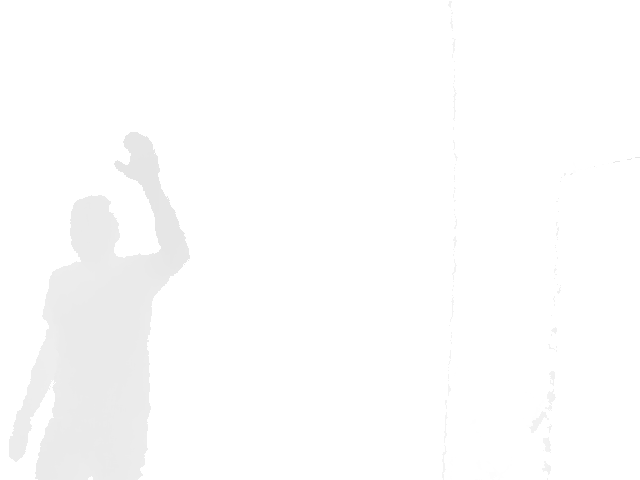hand: (112, 131, 163, 182)
head: (69, 195, 121, 257)
person: (7, 130, 192, 479)
